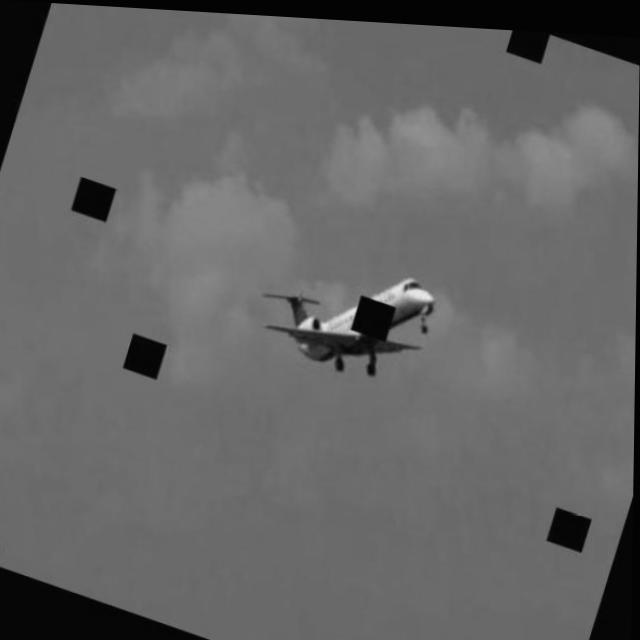aeroplane: (247, 223, 457, 404)
